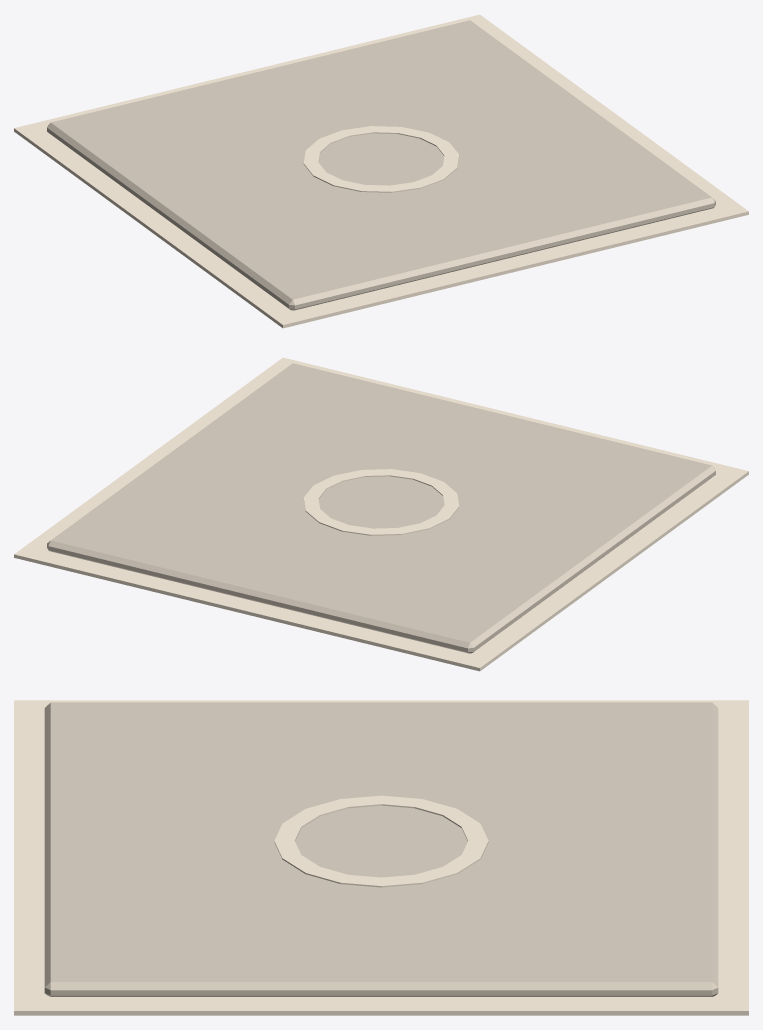
Rendered from SM_VKI_Overlay_PressurePlate.fbx.
3 views of the same model, one above another, from view 1: azimuth 30°, elevation 25°; view 2: azimuth 150°, elevation 25°; view 3: azimuth 270°, elevation 25° (orthographic). The views are drawn at different scales.
Visible parts, largest first — view 1: SM_VKI_Overlay_PressurePlate.001; view 2: SM_VKI_Overlay_PressurePlate.001; view 3: SM_VKI_Overlay_PressurePlate.001.
Part boxes in pixels (bbox=[...]): SM_VKI_Overlay_PressurePlate.001: bbox=[14, 14, 748, 328]; SM_VKI_Overlay_PressurePlate.001: bbox=[14, 357, 748, 671]; SM_VKI_Overlay_PressurePlate.001: bbox=[14, 700, 748, 1015].
Size of the model in its own units: 0.72 by 0.021 by 0.72.
